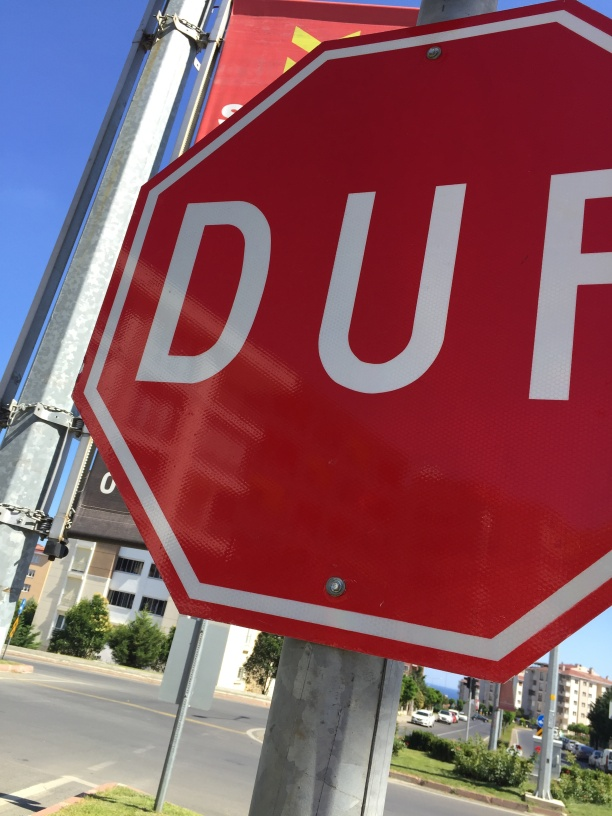arac_dur_isareti: (74, 81, 612, 641)
